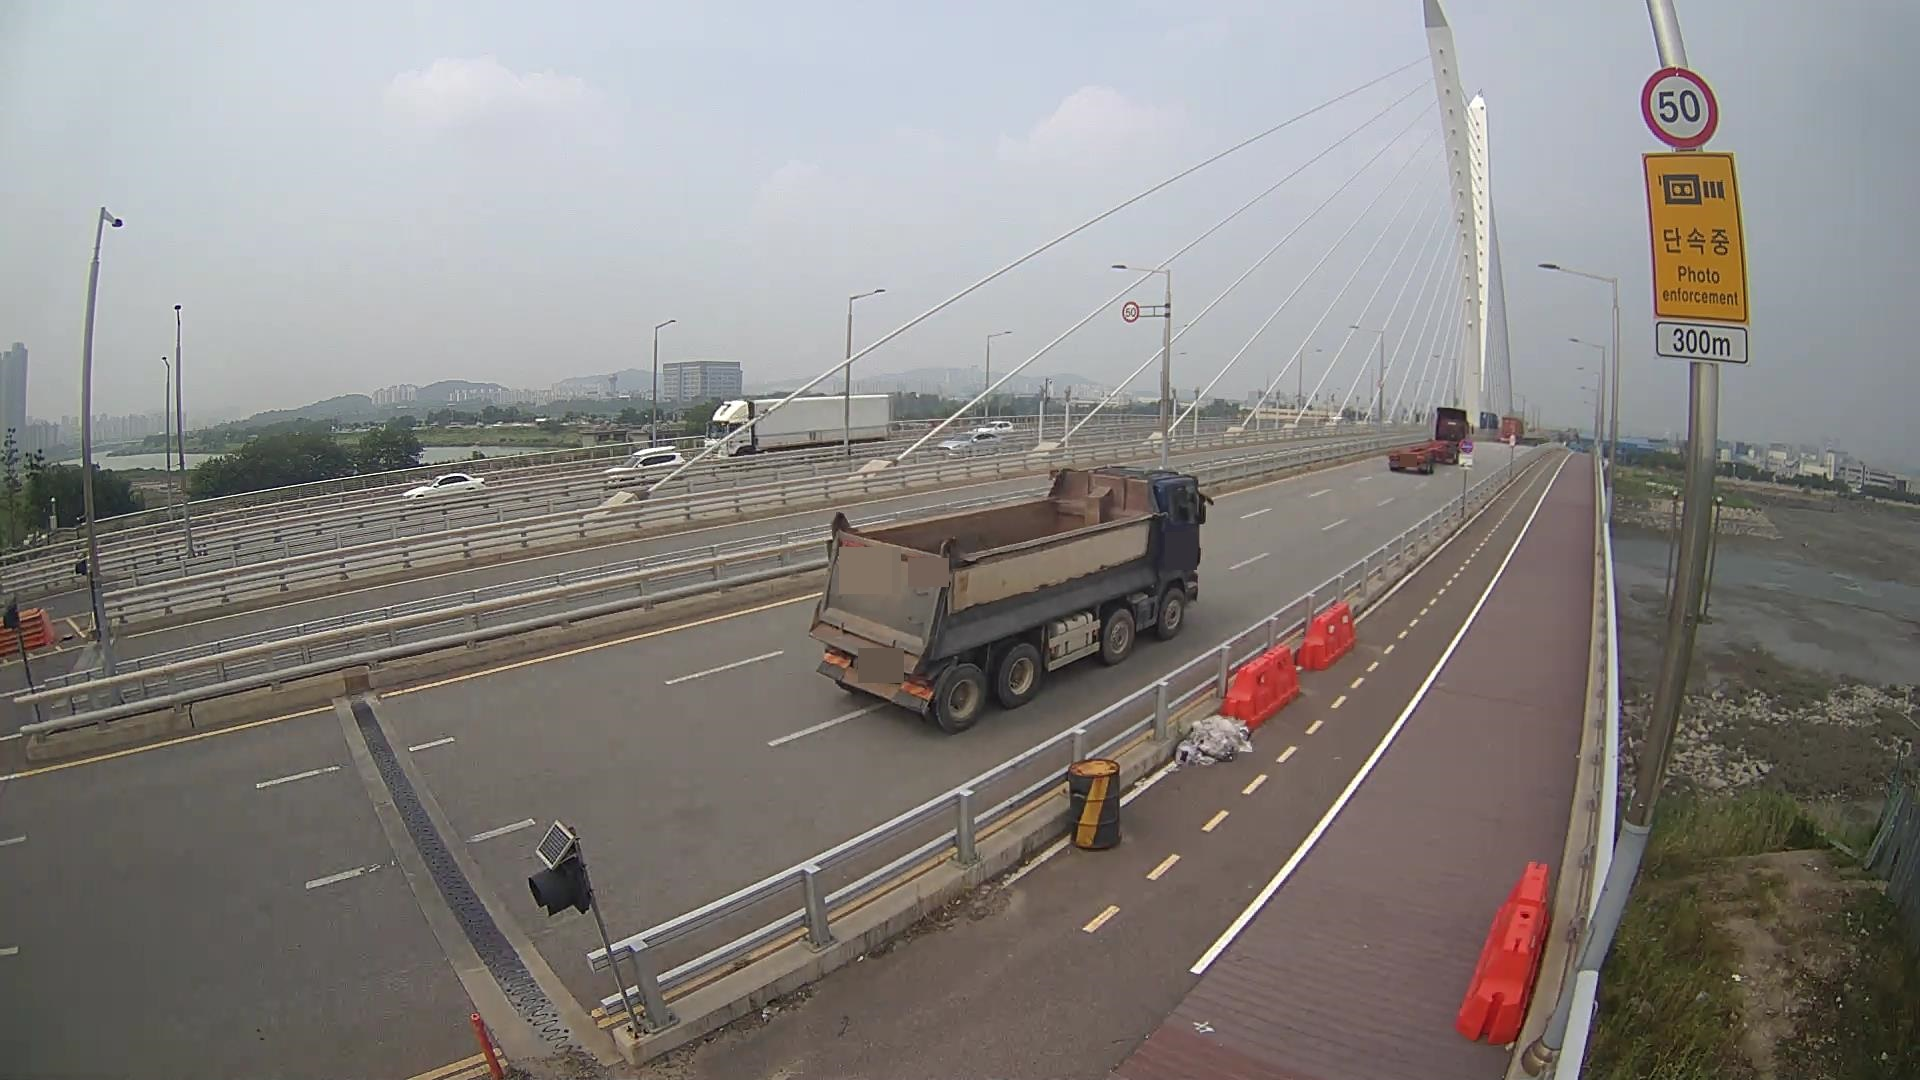정상차량: (807, 465, 1215, 735)
